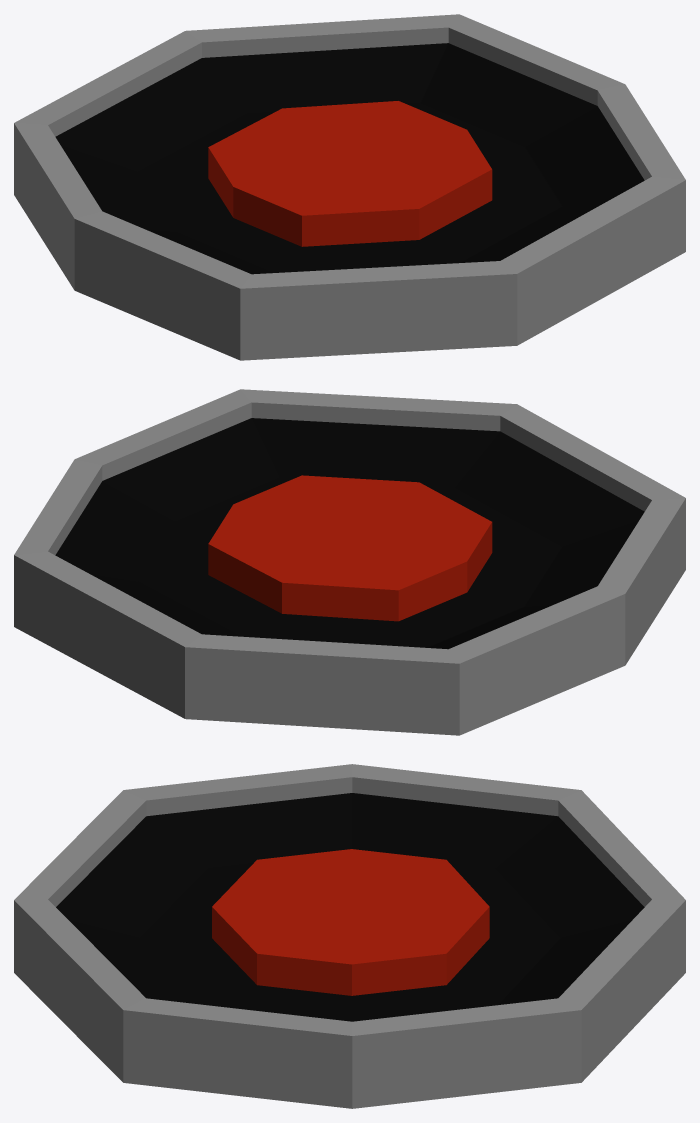
Rendered from Trip Punch.fbx.
3 views of the same model, one above another, from view 1: azimuth 30°, elevation 25°; view 2: azimuth 150°, elevation 25°; view 3: azimuth 270°, elevation 25° (orthographic).
Parts seen in each view (by area): view 1: Cube; view 2: Cube; view 3: Cube.
Part boxes in pixels (x1,y1,x2,y2): Cube: (14, 14, 685, 360); Cube: (14, 389, 685, 735); Cube: (14, 764, 685, 1108).
Size of the model in its own units: 422 by 53.19 by 441.
